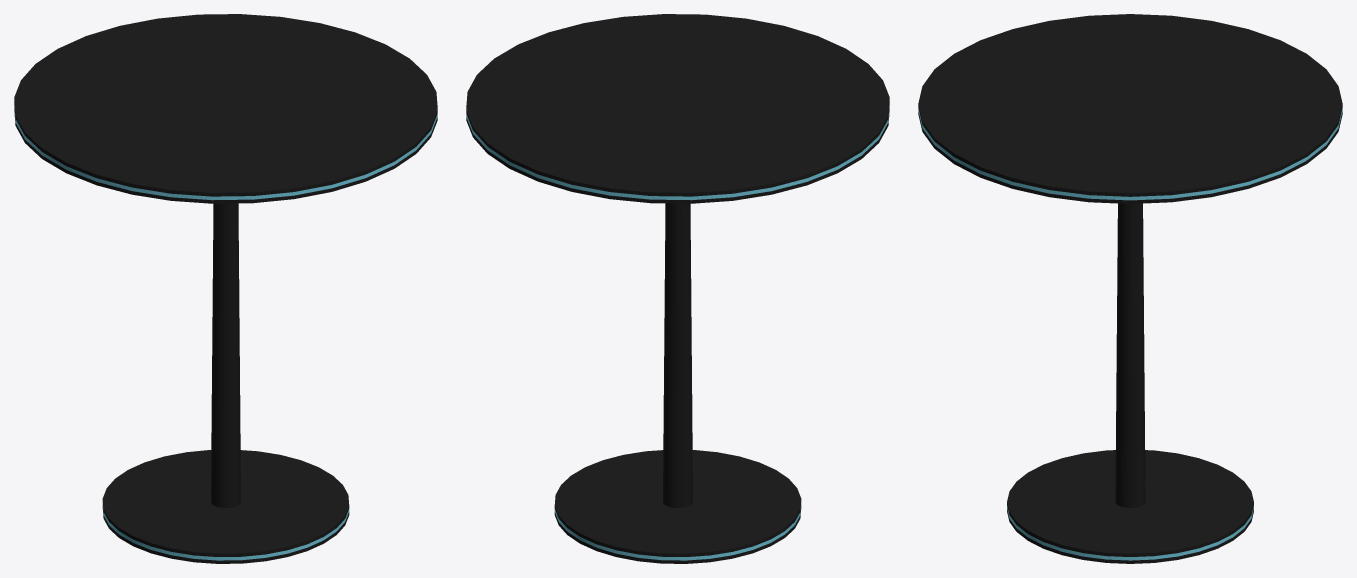
Rendered from table_haute.fbx.
3 views of the same model, side by side, from view 1: azimuth 30°, elevation 25°; view 2: azimuth 150°, elevation 25°; view 3: azimuth 270°, elevation 25° (orthographic).
Parts seen in each view (by area): view 1: table_haute; view 2: table_haute; view 3: table_haute.
Part boxes in pixels (left/top/right/bottom): table_haute: left=14, top=14, right=437, bottom=563; table_haute: left=466, top=14, right=889, bottom=563; table_haute: left=918, top=14, right=1342, bottom=563.
Size of the model in its own units: 117 by 124 by 117.
